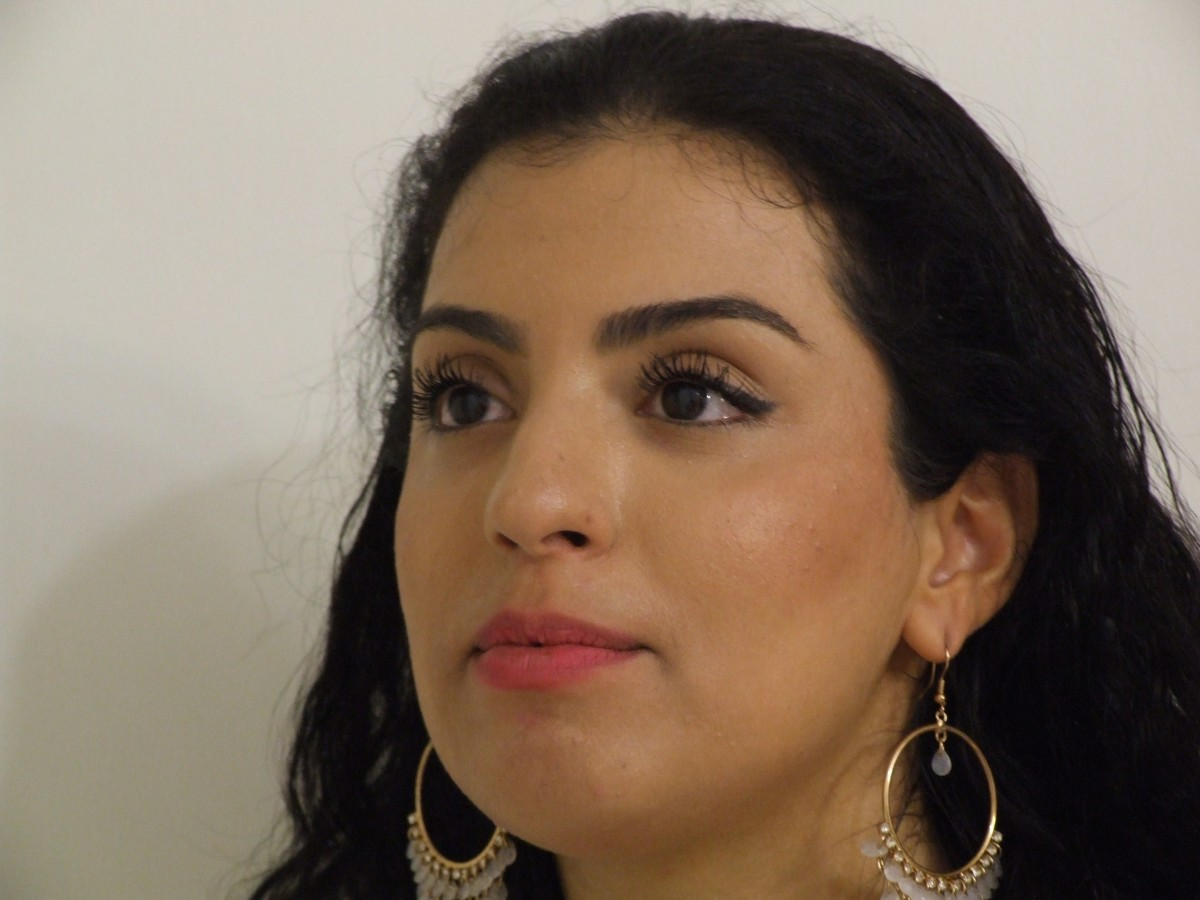neo: (602, 744, 650, 784), (544, 441, 581, 478), (576, 500, 602, 532)
